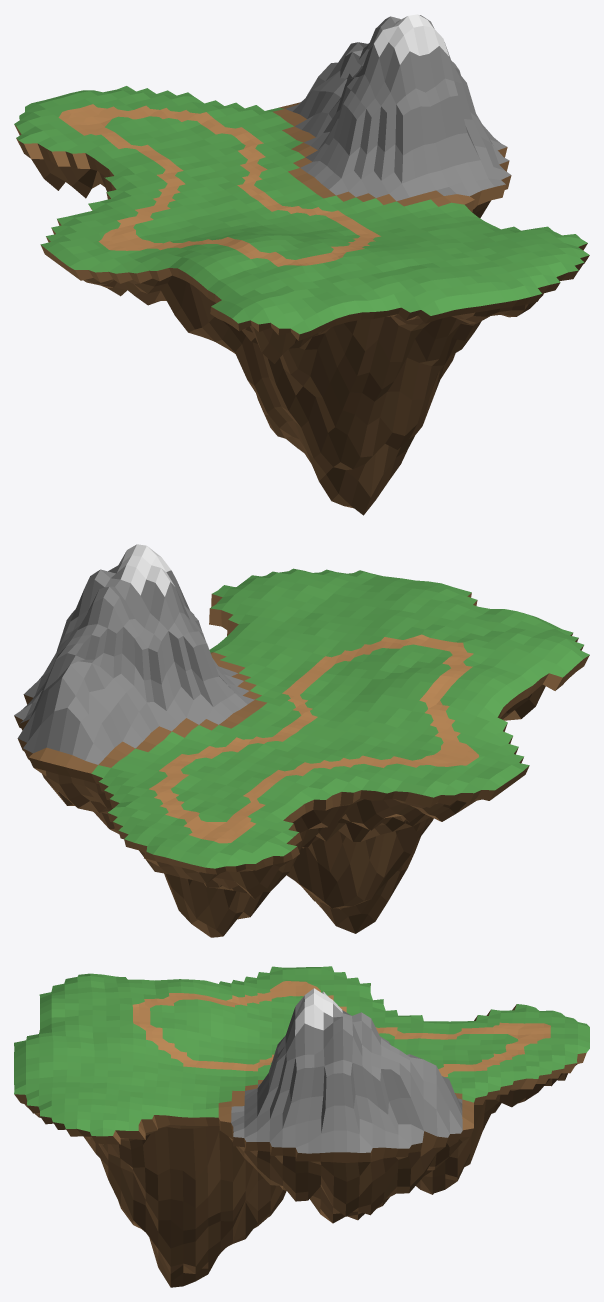
Rendered from SkyIsland.fbx.
3 views of the same model, one above another, from view 1: azimuth 30°, elevation 25°; view 2: azimuth 150°, elevation 25°; view 3: azimuth 270°, elevation 25° (orthographic). The views are drawn at different scales.
Parts seen in each view (by area): view 1: SkyIsland; view 2: SkyIsland; view 3: SkyIsland.
Boxes of the visible parts, x1,y1,x2,y2 form: SkyIsland: (14,14,589,515); SkyIsland: (14,544,589,937); SkyIsland: (14,966,589,1287).
Bounding box in the file's own units: 11247 × 9803 × 14482.
